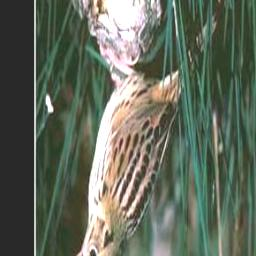Sparrow: (70, 0, 238, 256)
